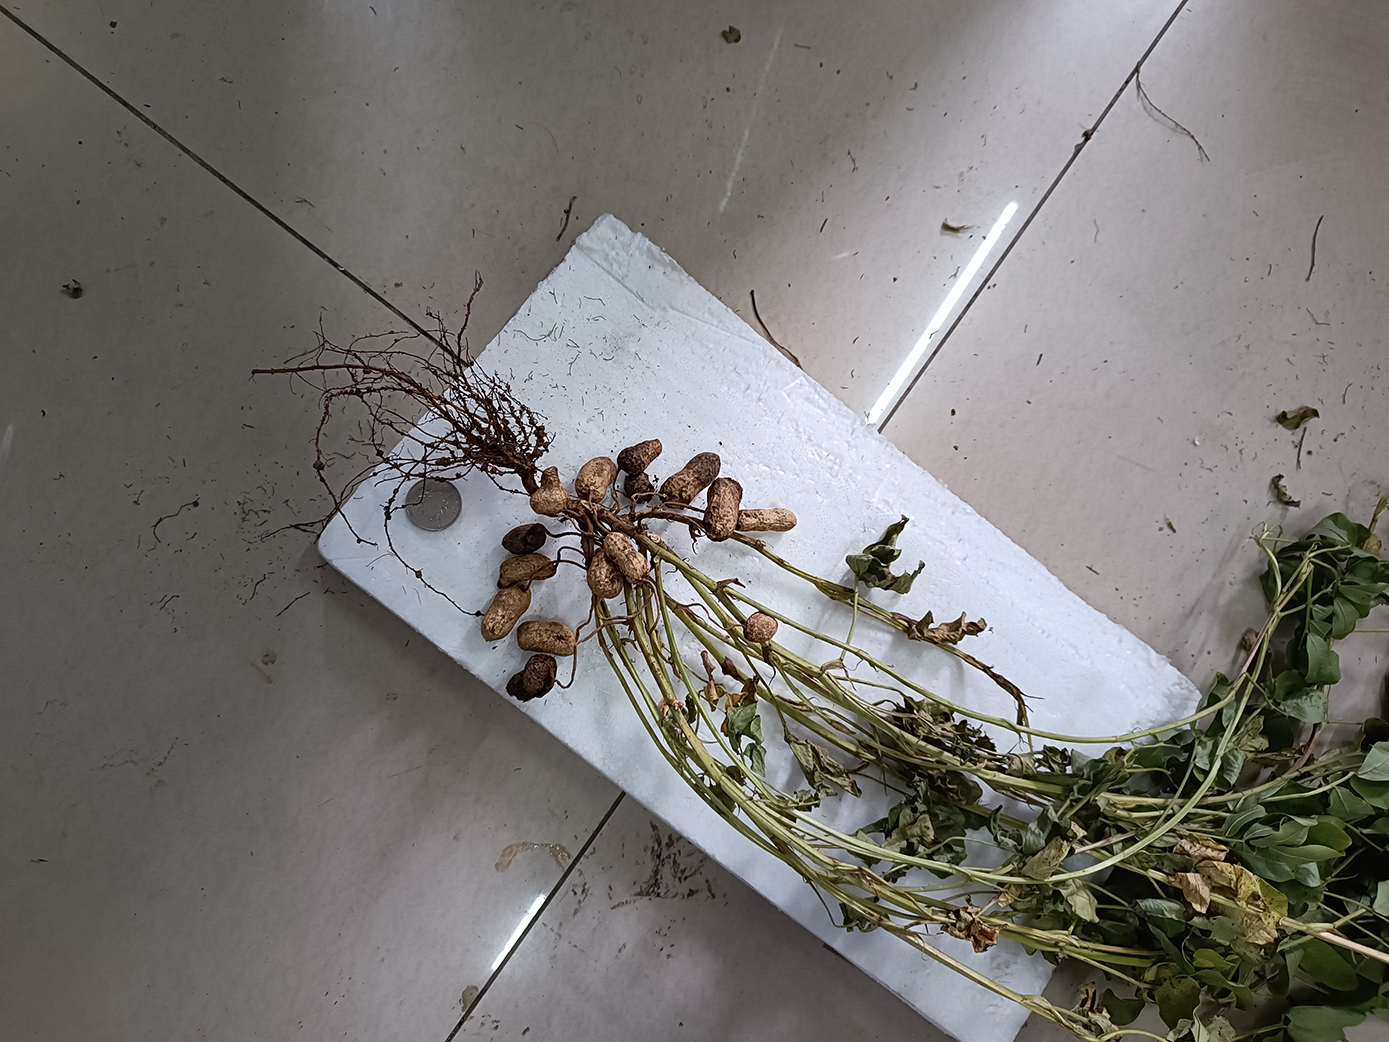h: (482, 588, 530, 639), (517, 620, 577, 655), (497, 552, 555, 588), (604, 530, 645, 581), (574, 456, 616, 503), (530, 466, 567, 516), (589, 549, 620, 598), (738, 508, 796, 533), (743, 611, 778, 642)
l: (661, 451, 724, 508), (505, 655, 557, 703), (705, 477, 742, 542), (620, 440, 664, 473), (502, 523, 548, 555), (623, 473, 652, 503)
